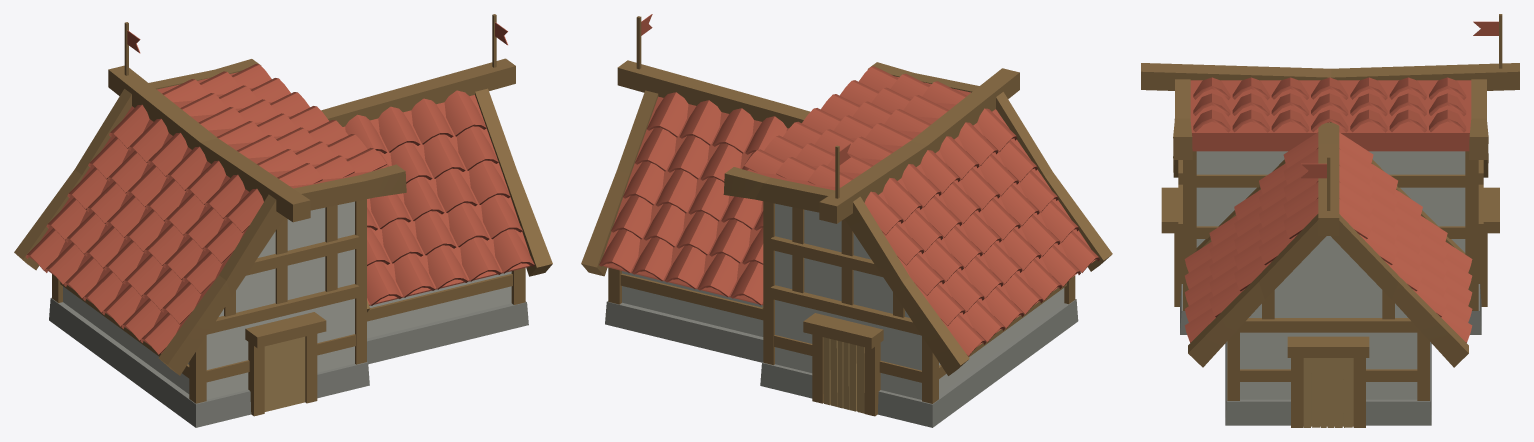
Rendered from house1.glb.
3 views of the same model, side by side, from view 1: azimuth 30°, elevation 25°; view 2: azimuth 150°, elevation 25°; view 3: azimuth 270°, elevation 25° (orthographic). The views are drawn at different scales.
Parts seen in each view (by area): view 1: Houses_SecondAge_2_Level2; view 2: Houses_SecondAge_2_Level2; view 3: Houses_SecondAge_2_Level2.
Part boxes in pixels (<box>): Houses_SecondAge_2_Level2: <box>14,14,552,427</box>; Houses_SecondAge_2_Level2: <box>581,14,1112,427</box>; Houses_SecondAge_2_Level2: <box>1141,14,1519,427</box>.
Bounding box in the file's own units: 1.55 × 0.9455 × 1.17.
